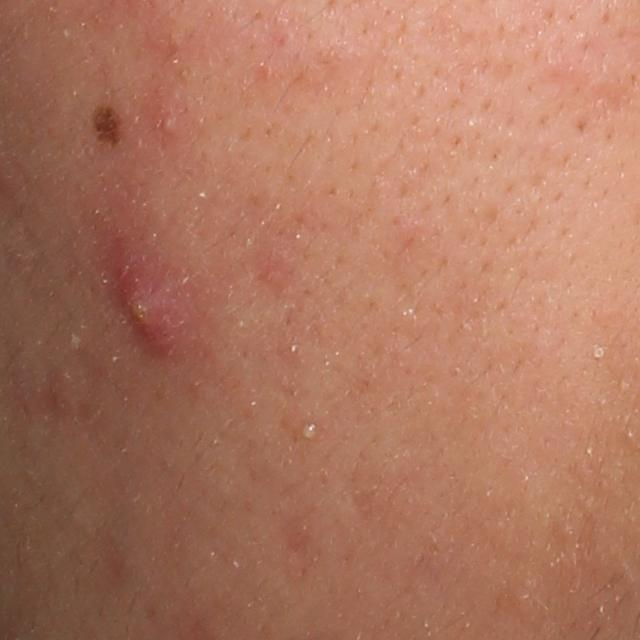nevus: (86, 101, 125, 149)
pustule: (110, 266, 177, 350), (294, 417, 324, 447)
